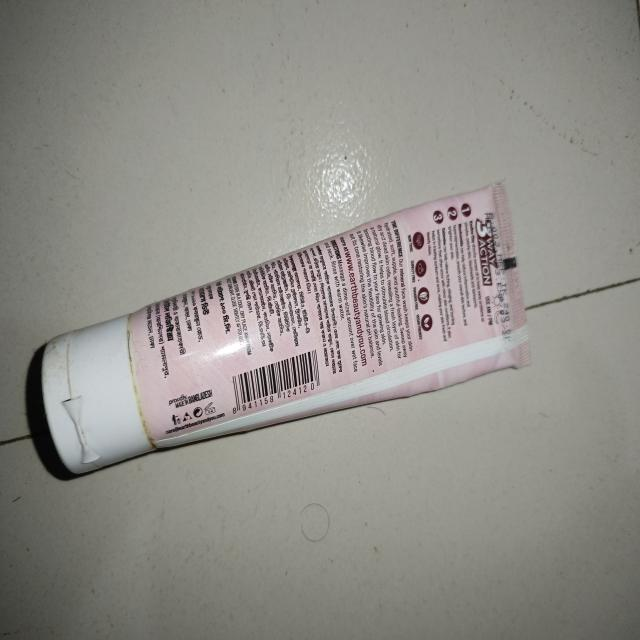Squeeze Tube: (37, 169, 533, 427)
